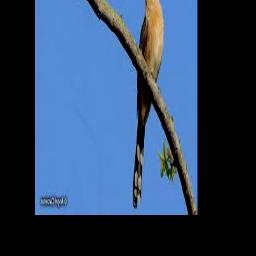Cuckoo: (133, 0, 164, 208)
